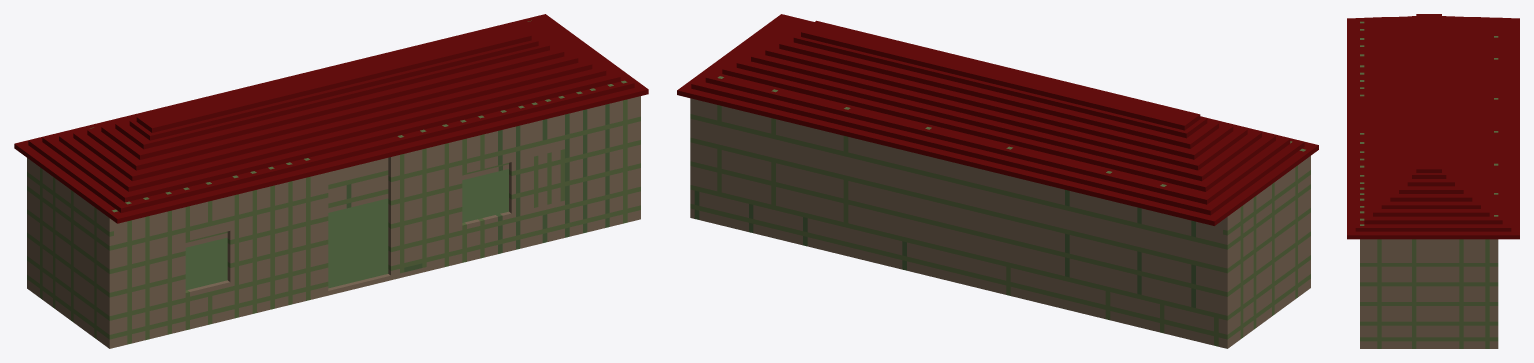
The model's file is casaMason.obj.
3 renders of one model, left to right at view 1: azimuth 30°, elevation 25°; view 2: azimuth 150°, elevation 25°; view 3: azimuth 270°, elevation 25°, orthographic. The views are drawn at different scales.
Size of the model in its own units: 119 by 38 by 40.
Materials: 1 (1 with a texture image).
